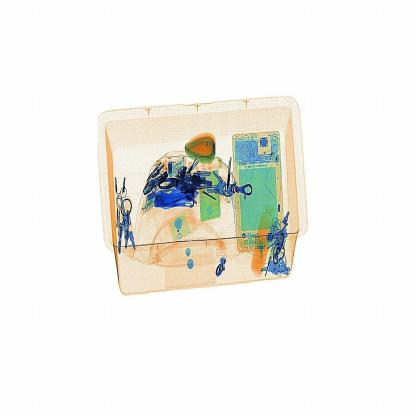knife: (148, 183, 201, 213)
